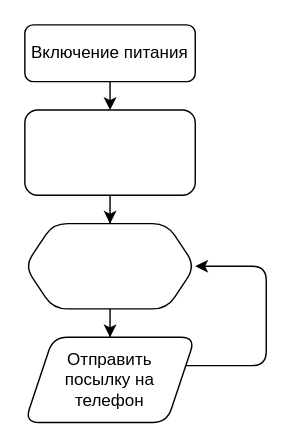
The diagram is 302 pixels wide and 447 high, and some of its shapes have lost their labels. Each missing label, with the centre of its shape:
"Ожидание посылки" belongs at point (109, 265).
"Соединиться с телефоном" belongs at point (109, 152).
